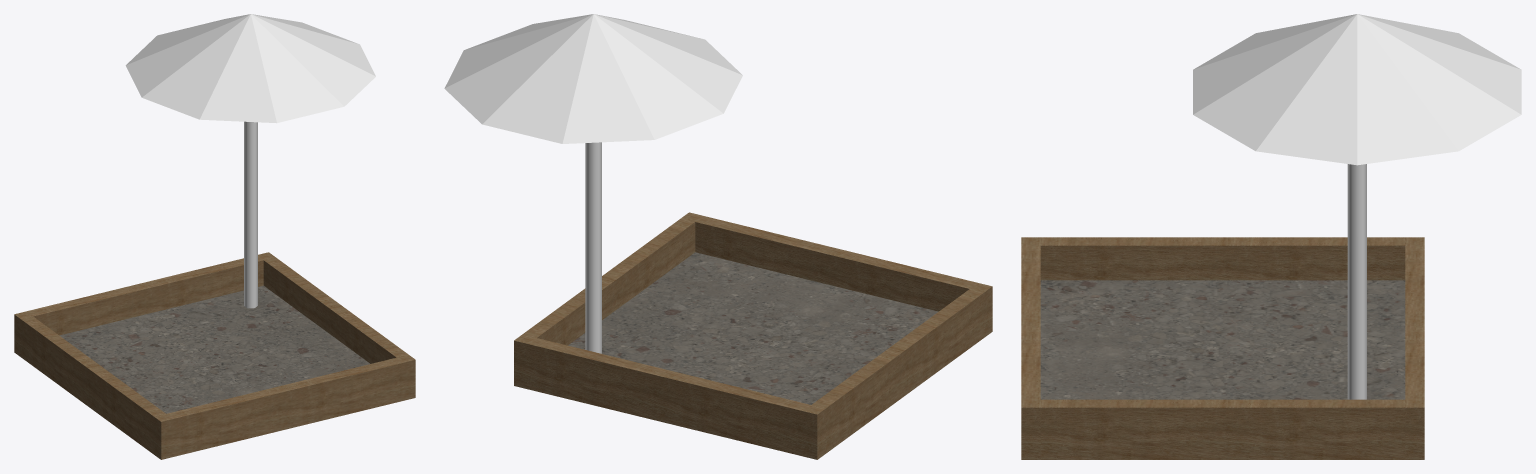
The model's file is S1U_Sandbox.fbx.
3 renders of one model, left to right at view 1: azimuth 30°, elevation 25°; view 2: azimuth 150°, elevation 25°; view 3: azimuth 270°, elevation 25°, orthographic. The views are drawn at different scales.
Visible parts, largest first — view 1: S1U_Sandbox; view 2: S1U_Sandbox; view 3: S1U_Sandbox.
Boxes of the visible parts, bbox=[...] form: S1U_Sandbox: bbox=[14, 14, 415, 459]; S1U_Sandbox: bbox=[444, 14, 992, 459]; S1U_Sandbox: bbox=[1021, 14, 1521, 459].
Bounding box in the file's own units: 2.65 × 2.4 × 2.61.
